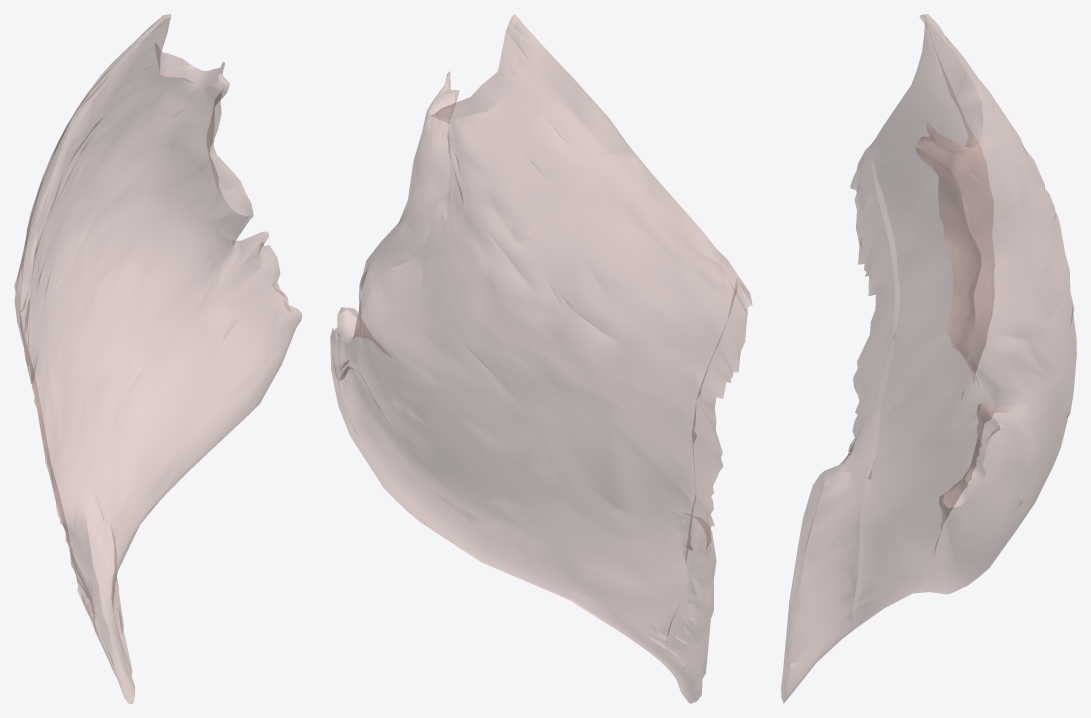
The model's file is grand-gluteal.glb.
The picture shows the model from 3 angles, left to right: view 1: azimuth 30°, elevation 25°; view 2: azimuth 150°, elevation 25°; view 3: azimuth 270°, elevation 25°; orthographic projection. The views are drawn at different scales.
Visible parts, largest first — view 1: grand-gluteal; view 2: grand-gluteal; view 3: grand-gluteal.
Boxes of the visible parts, x1,y1,x2,y2 form: grand-gluteal: (14, 14, 301, 703); grand-gluteal: (330, 14, 752, 703); grand-gluteal: (781, 14, 1076, 703).
Size of the model in its own units: 0.1451 by 0.2696 by 0.097.
